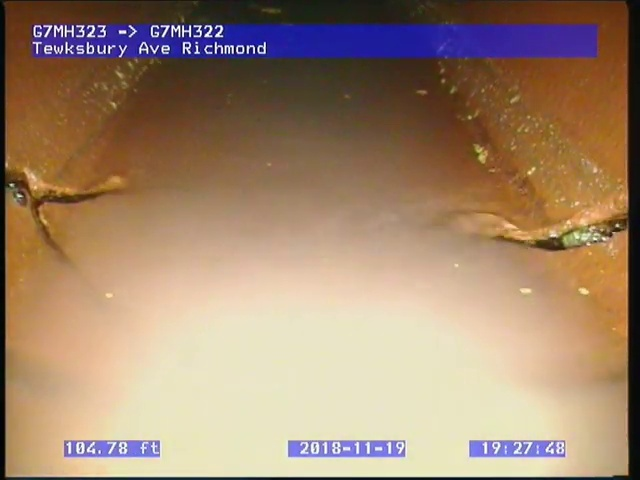crack: (7, 161, 133, 280), (492, 207, 627, 253)
